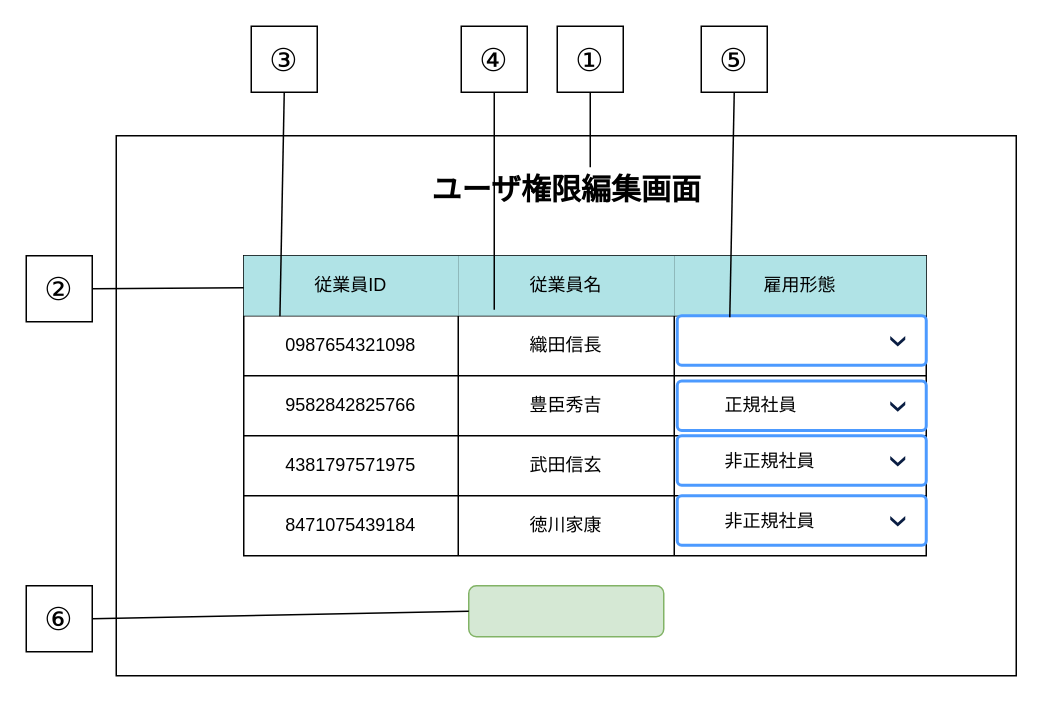
The diagram is 1043 pixels wide and 702 high, and some of its shapes have lost their labels. The centre of each missing label's shape, as x and y in pixels:
"保存" goes at (565,610).
"管理者" goes at (801,340).
